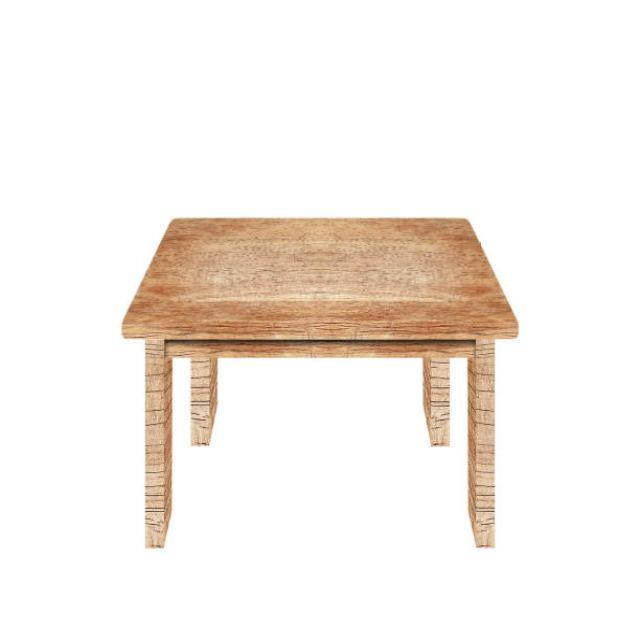table: (120, 215, 519, 550)
